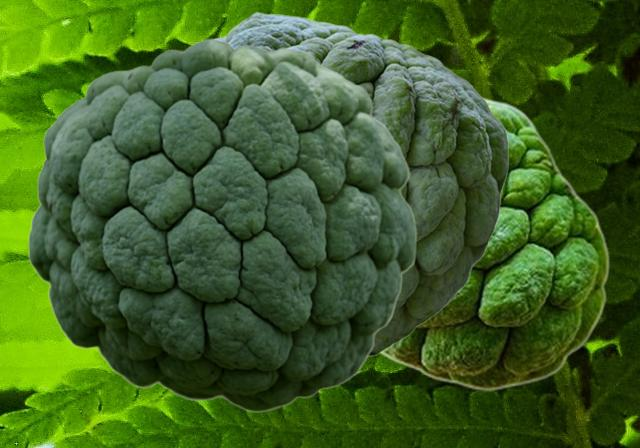atis: (27, 38, 416, 412), (211, 12, 508, 359), (378, 93, 609, 390)
